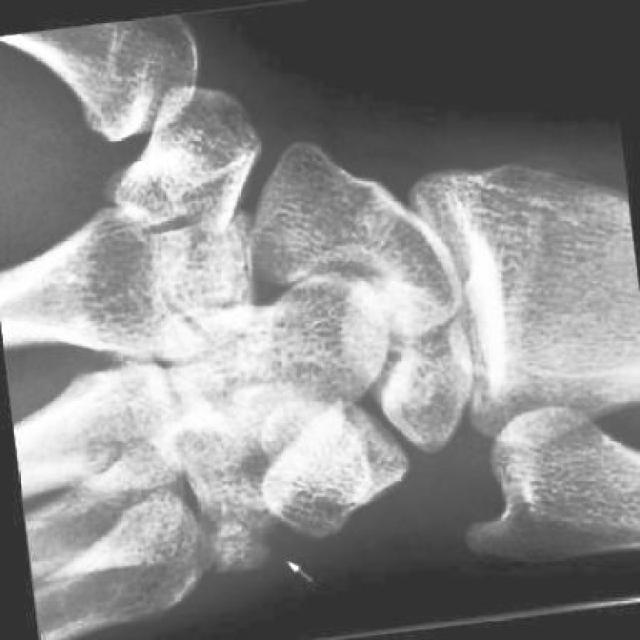Fracture: (183, 494, 274, 582)
